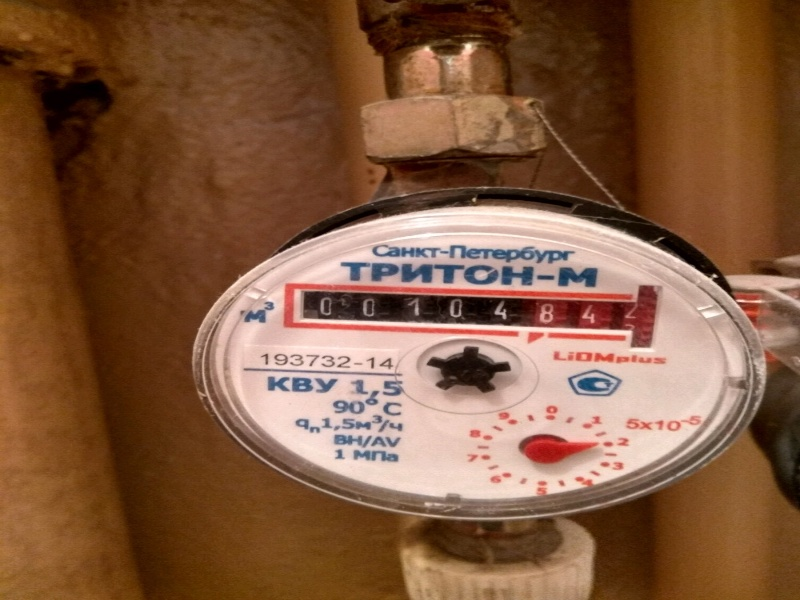meter: (293, 285, 643, 342)
